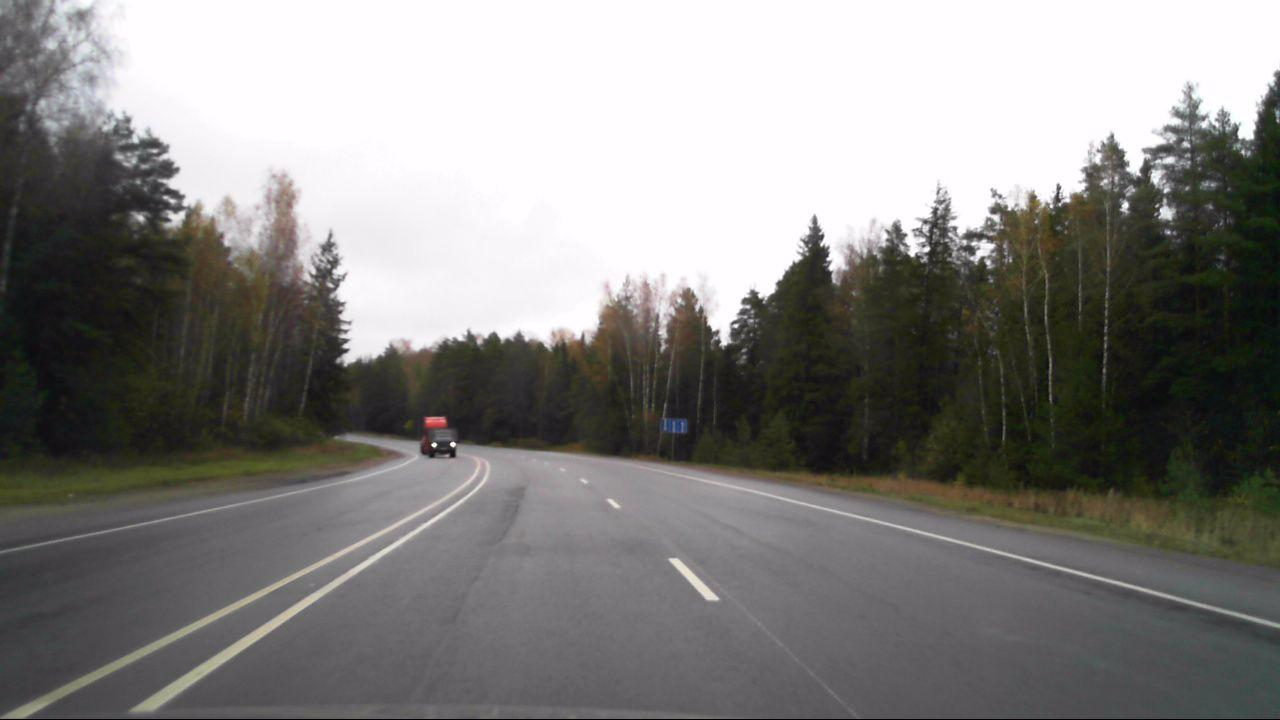5_15_7: (661, 417, 689, 435)
